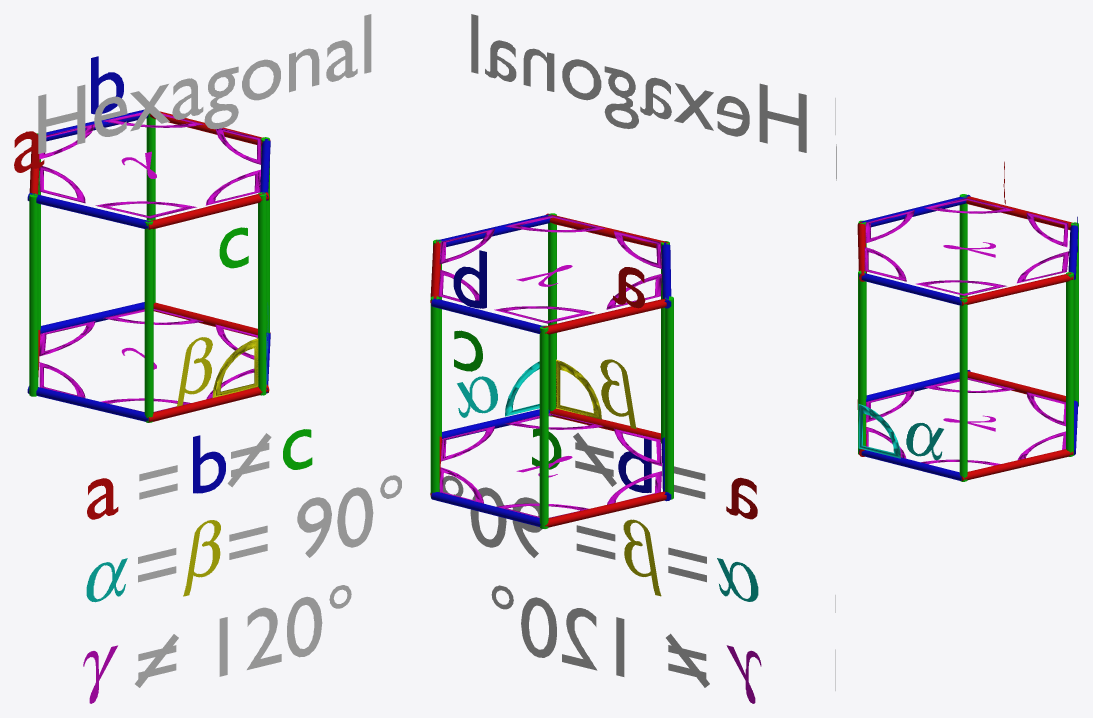
Rendered from hexagonal.obj.
3 renders of one model, left to right at view 1: azimuth 30°, elevation 25°; view 2: azimuth 150°, elevation 25°; view 3: azimuth 270°, elevation 25°, orthographic. The views are drawn at different scales.
Visible parts, largest first — view 1: Text.135_Text.120, Text.119_Text.131, Text.118_Text.130, Cylinder.110_Cylinder.466, Cylinder.113_Cylinder.469, Cylinder.112_Cylinder.468, Cylinder.102_Cylinder.458, Cylinder.101_Cylinder.457, Cylinder.107_Cylinder.463, Cylinder.108_Cylinder.464, Cylinder.114_Cylinder.470, Text.109_Text.114 (+11 smaller); view 2: Text.135_Text.120, Text.119_Text.131, Text.118_Text.130, Cylinder.109_Cylinder.465, Cylinder.114_Cylinder.470, Cylinder.110_Cylinder.466, Cylinder.112_Cylinder.468, Cylinder.104_Cylinder.460, Cylinder.098_Cylinder.454, Cylinder.097_Cylinder.453, Cylinder.103_Cylinder.459, Text.124_Text.135 (+16 smaller); view 3: Cylinder.111_Cylinder.467, Cylinder.114_Cylinder.470, Cylinder.112_Cylinder.468, Cylinder.106_Cylinder.462, Cylinder.100_Cylinder.456, Cylinder.099_Cylinder.455, Cylinder.105_Cylinder.461, Cylinder.110_Cylinder.466, Sphere.235_Sphere.339, Cylinder.109_Cylinder.465, Cylinder.098_Cylinder.454, Cylinder.104_Cylinder.460 (+13 smaller).
Part boxes in pixels (<box>): Text.135_Text.120: <box>38,14,371,153</box>; Text.119_Text.131: <box>138,585,351,679</box>; Text.118_Text.130: <box>229,475,401,559</box>; Cylinder.110_Cylinder.466: <box>29,193,38,396</box>; Cylinder.113_Cylinder.469: <box>144,219,153,422</box>; Cylinder.112_Cylinder.468: <box>258,192,266,395</box>; Cylinder.102_Cylinder.458: <box>147,192,269,229</box>; Cylinder.101_Cylinder.457: <box>27,193,150,228</box>; Cylinder.107_Cylinder.463: <box>27,386,148,421</box>; Cylinder.108_Cylinder.464: <box>148,384,269,422</box>; Cylinder.114_Cylinder.470: <box>146,113,155,303</box>; Text.109_Text.114: <box>193,435,225,493</box>; Text.135_Text.120: <box>471,14,806,152</box>; Text.119_Text.131: <box>491,585,706,679</box>; Text.118_Text.130: <box>443,475,615,559</box>; Cylinder.109_Cylinder.465: <box>539,325,548,528</box>; Cylinder.114_Cylinder.470: <box>430,296,439,498</box>; Cylinder.110_Cylinder.466: <box>665,296,673,499</box>; Cylinder.112_Cylinder.468: <box>548,213,556,416</box>; Cylinder.104_Cylinder.460: <box>545,491,666,527</box>; Cylinder.098_Cylinder.454: <box>543,299,666,334</box>; Cylinder.097_Cylinder.453: <box>431,298,544,333</box>; Cylinder.103_Cylinder.459: <box>431,492,540,526</box>; Text.124_Text.135: <box>453,250,486,308</box>; Cylinder.111_Cylinder.467: <box>959,297,967,481</box>; Cylinder.114_Cylinder.470: <box>1066,272,1073,456</box>; Cylinder.112_Cylinder.468: <box>858,270,865,454</box>; Cylinder.106_Cylinder.462: <box>961,449,1073,480</box>; Cylinder.100_Cylinder.456: <box>961,273,1073,305</box>; Cylinder.099_Cylinder.455: <box>859,273,962,305</box>; Cylinder.105_Cylinder.461: <box>859,450,961,480</box>; Cylinder.110_Cylinder.466: <box>959,194,967,297</box>; Sphere.235_Sphere.339: <box>858,404,900,458</box>; Cylinder.109_Cylinder.465: <box>1071,222,1078,406</box>; Cylinder.098_Cylinder.454: <box>966,196,1076,229</box>; Cylinder.104_Cylinder.460: <box>967,371,1065,401</box>.
Bounding box in the file's own units: 1.54 × 2.52 × 0.978.
